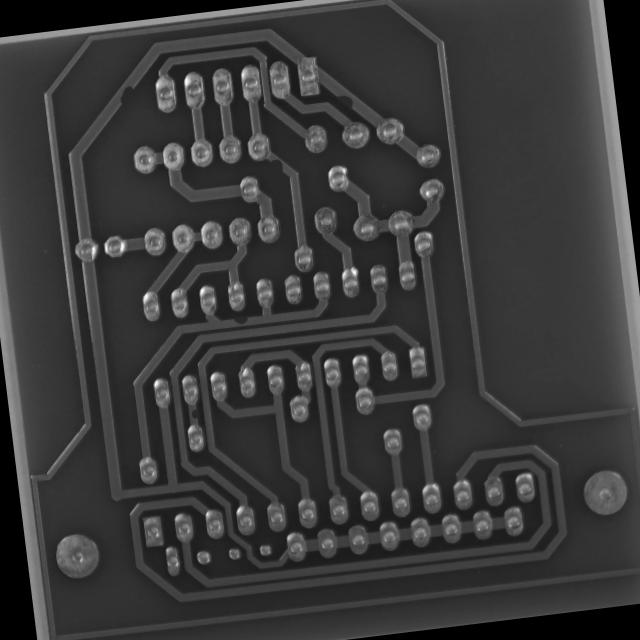mouse_bite: (330, 86, 362, 114), (110, 78, 138, 107), (263, 153, 288, 174), (226, 310, 252, 330), (183, 406, 202, 422)
